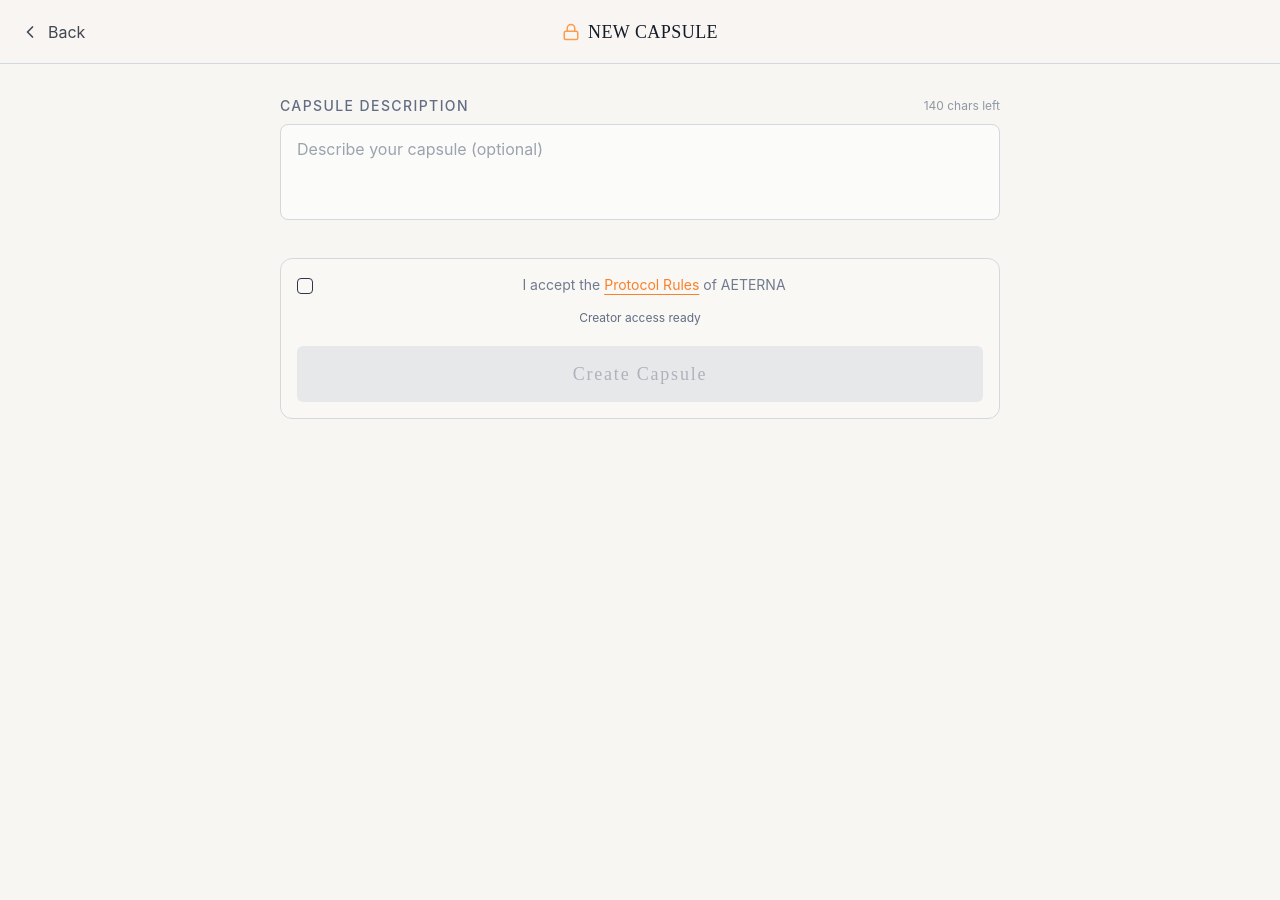
Scenario: PATCH-2M service-payment result batch race (Home gate architecture) › SCENARIO A: the admission seed commits paid + result together, so the FIRST Create Capsule click reaches the storage quote
The width and height of the screenshot is (1280, 900).
Click the checkbox at (305, 286), box [297,278,313,294]
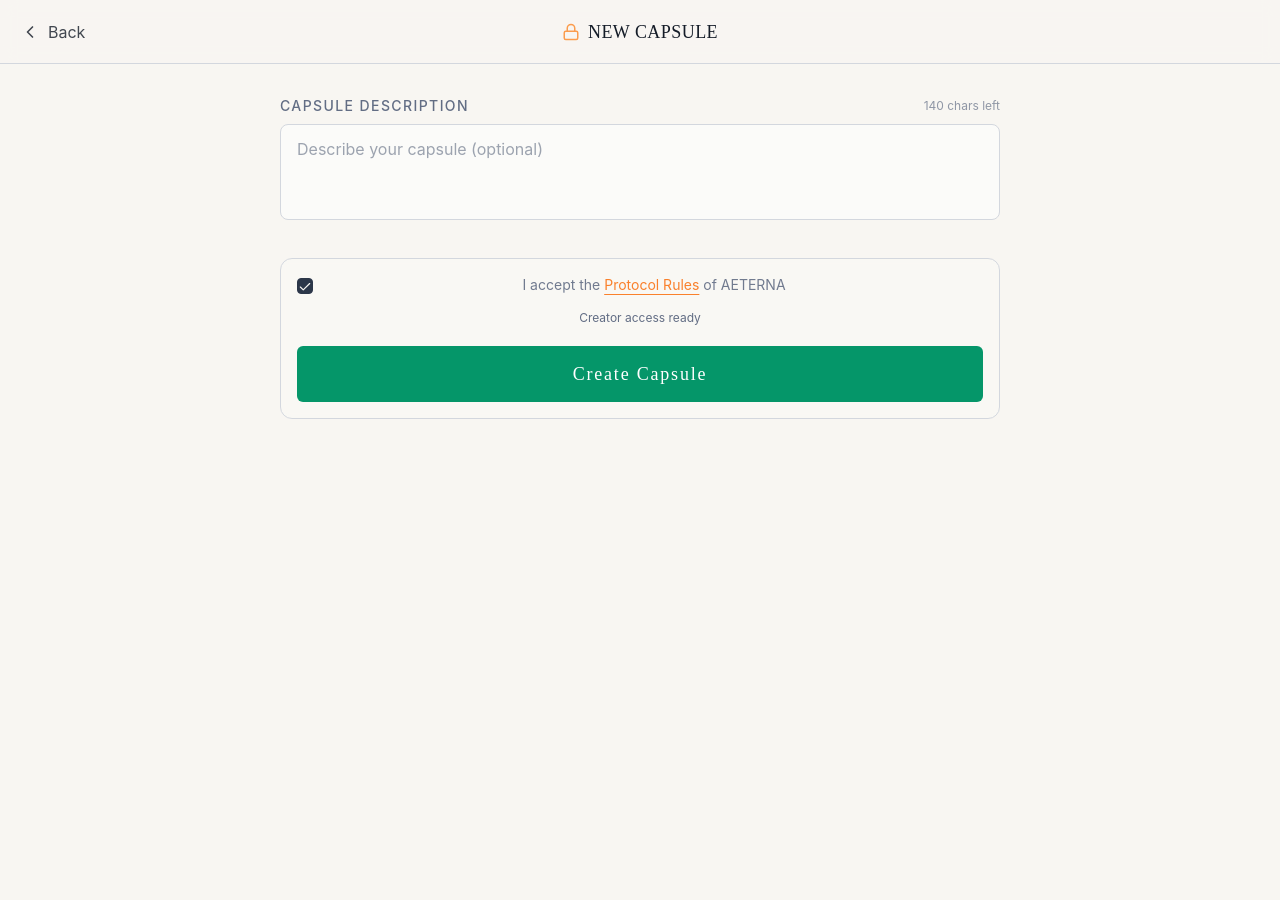
Expected: the message reads "Creator access ready", [579,310,701,325]
Click the button "Create Capsule" at (640, 374), box [297,346,983,402]
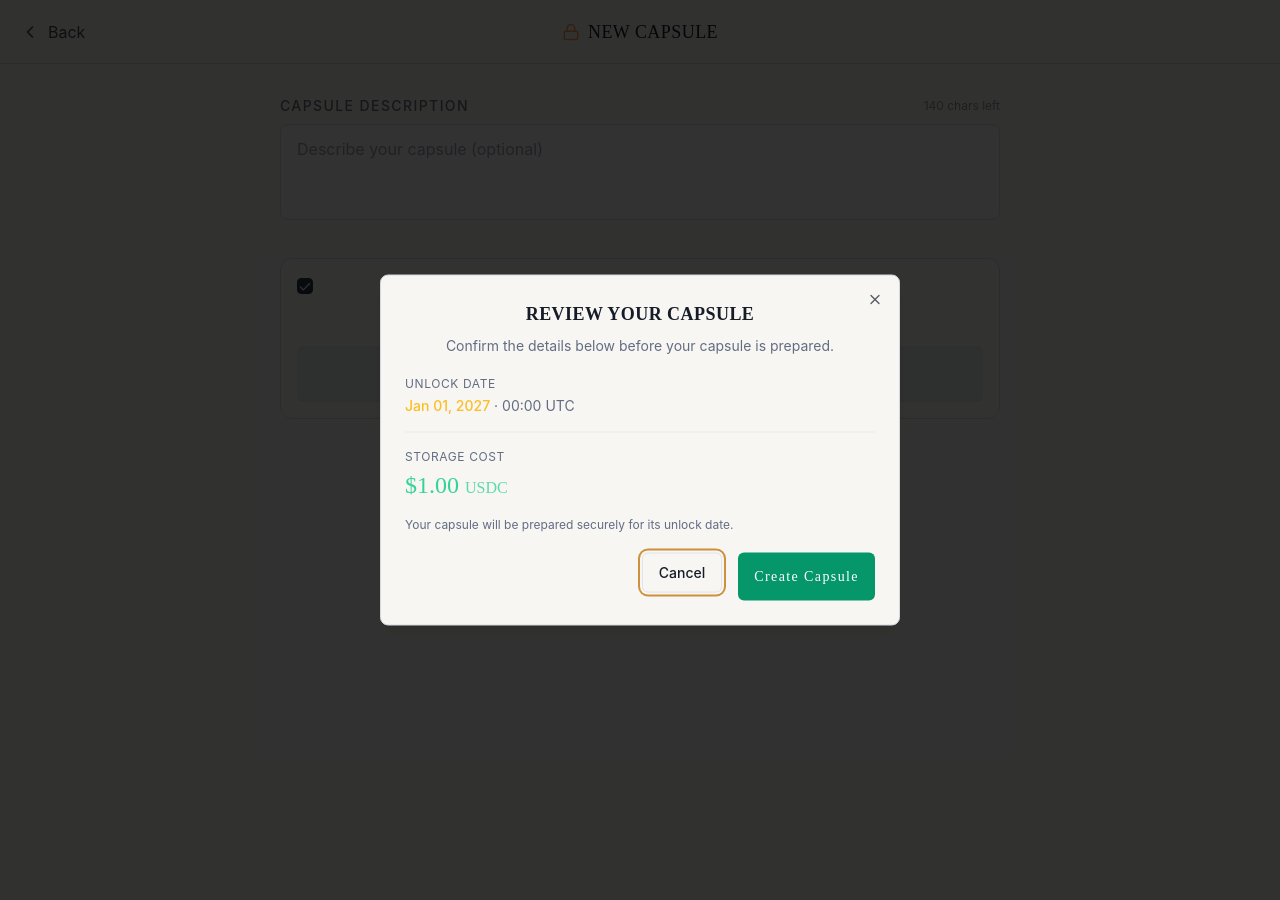
Expected: the dialog is shown, [380,274,900,626]
